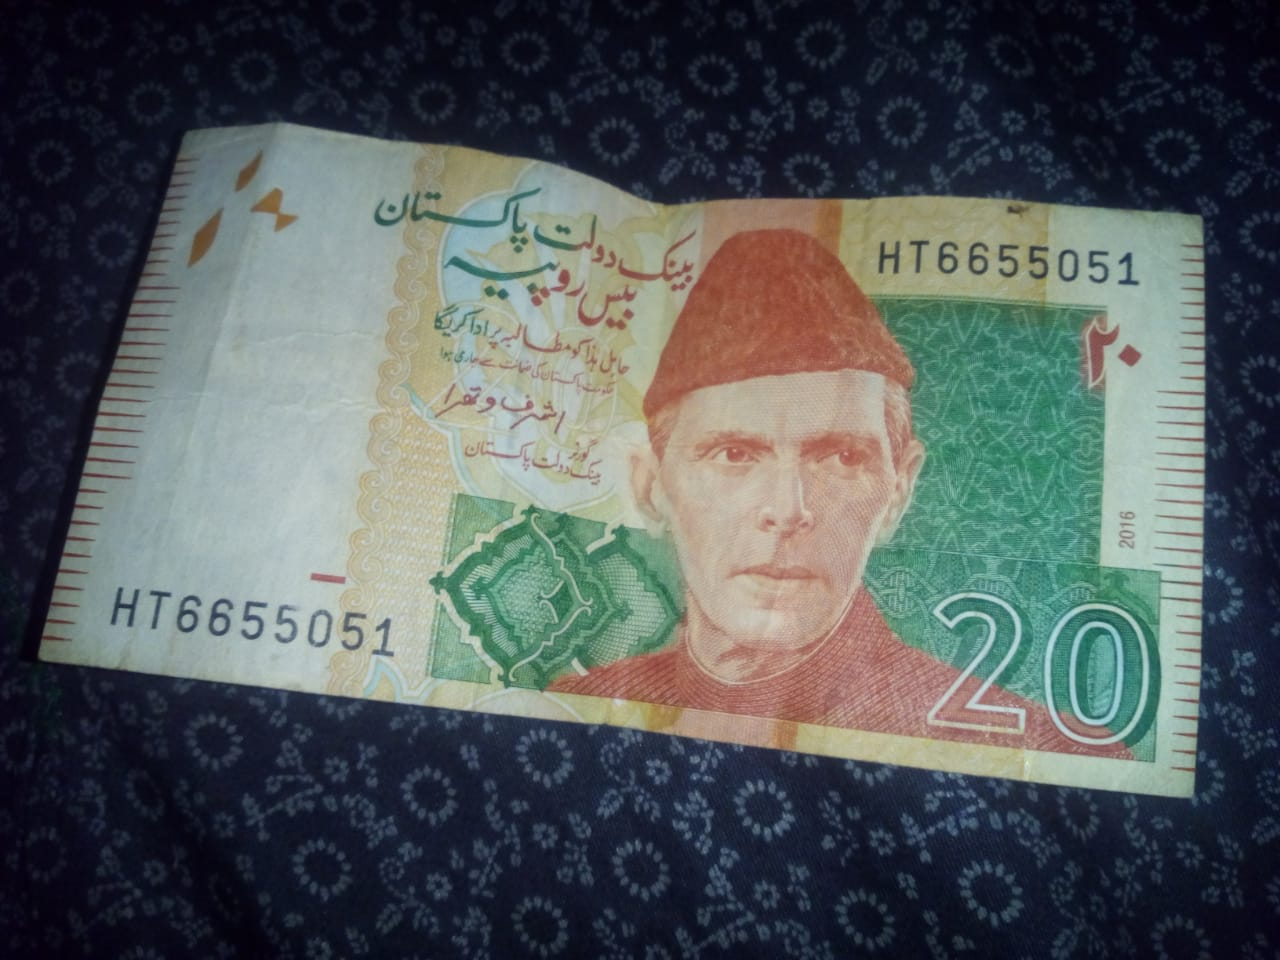20 rupee: (42, 98, 1230, 825)
